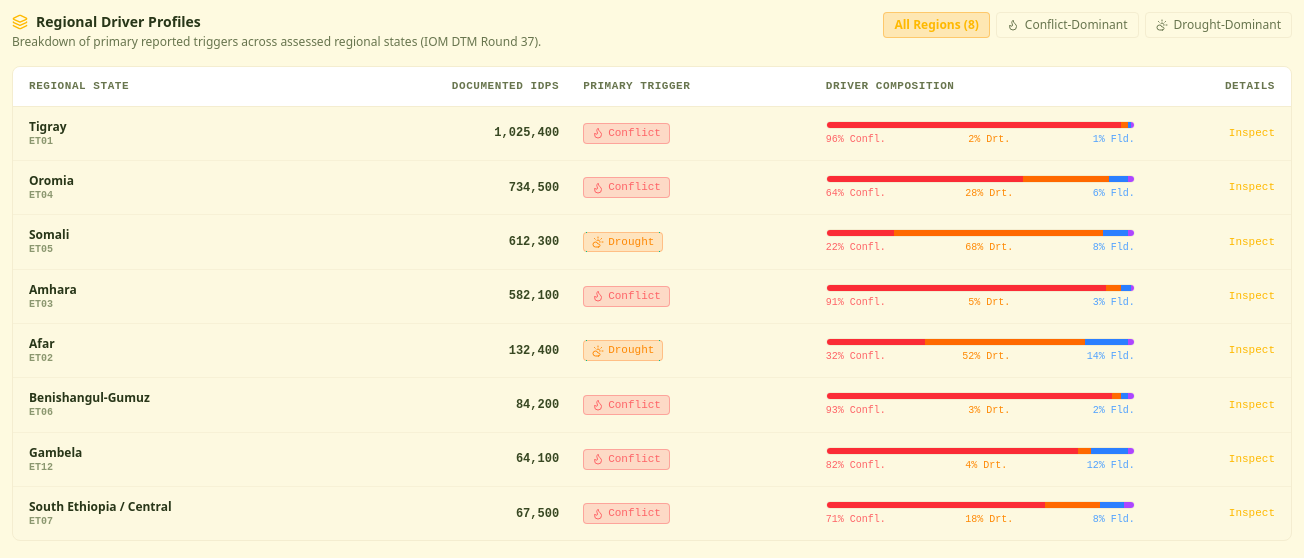
Test: Crisis Drivers Visualizations: Components & Logic › renders DriverRegionalMatrix and interactively filters by dominant driver
expect the text "Regional Driver Profiles" is shown: met, box [36,12,201,32]
expect the text "Tigray" is shown: met, box [29,118,66,135]
// Filter to Drought-Dominant only
Step 1. Click the button "Drought-Dominant" → (1218, 25), box [1145,12,1292,38]
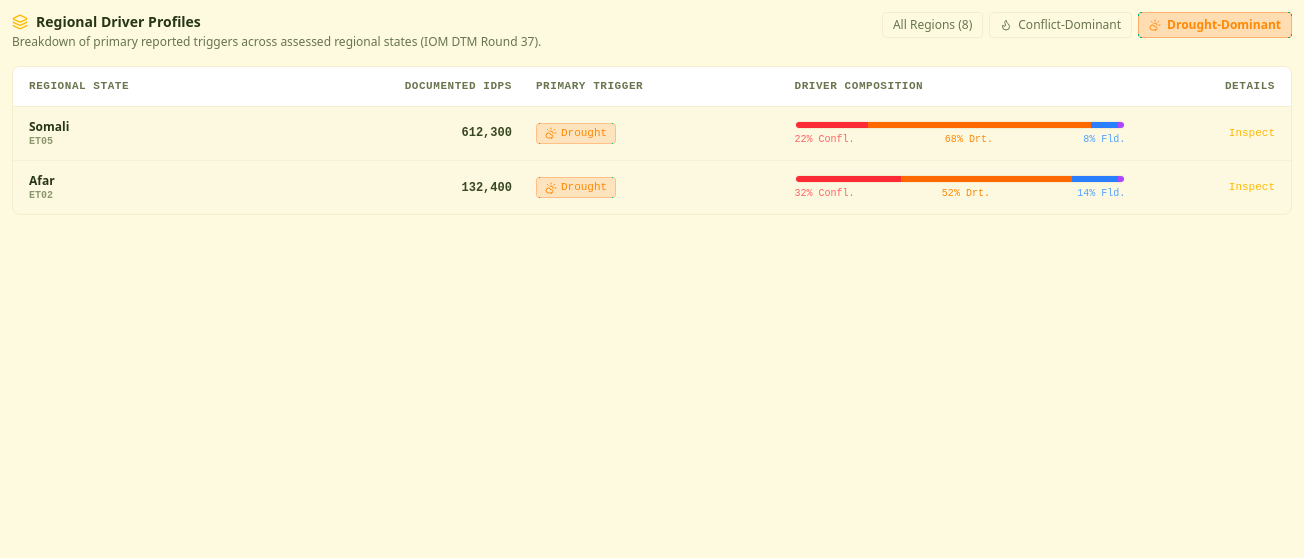
expect the text "Somali" is shown: met, box [29,118,69,135]
expect the button "Tigray" is gone: met
// Switch back to All Regions
Step 2. Click the button "All Regions (8)" → (933, 25), box [882,12,983,38]
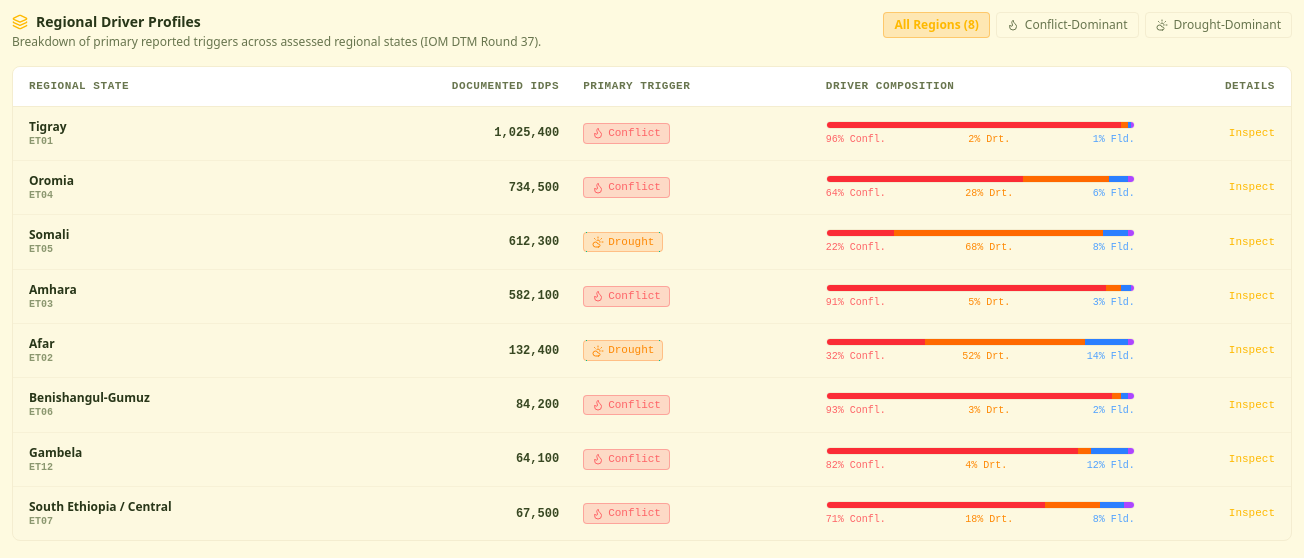
expect the text "Tigray" is shown: met, box [29,118,66,135]
